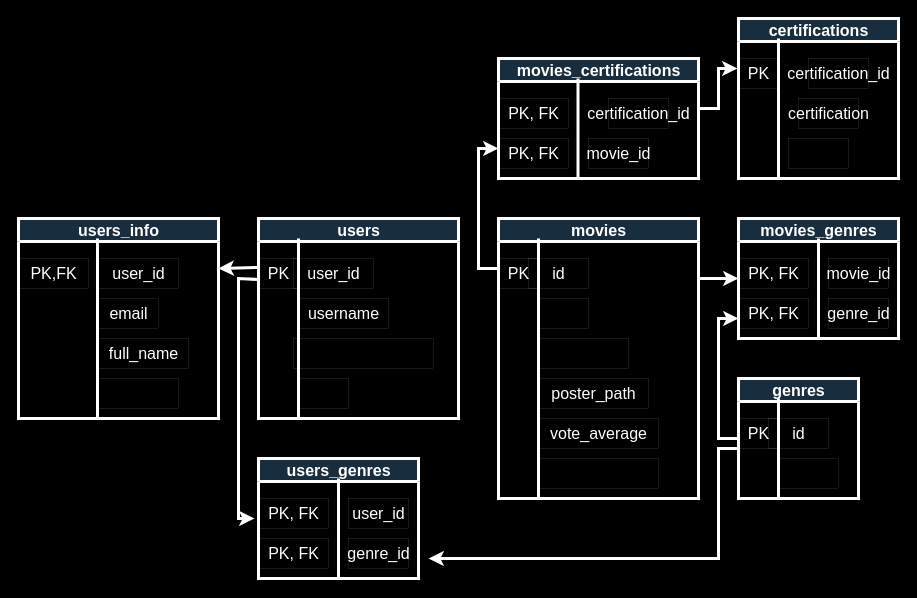
Image size: 917x598. Some labels were removed from this diagram. Each missing label, with the centre of its shape:
birthday: (x=138, y=393)
do_not_show: (x=598, y=473)
meaning: (x=818, y=153)
name: (x=808, y=473)
overview: (x=583, y=353)
password_hash: (x=363, y=353)
role: (x=323, y=393)
title: (x=563, y=313)
